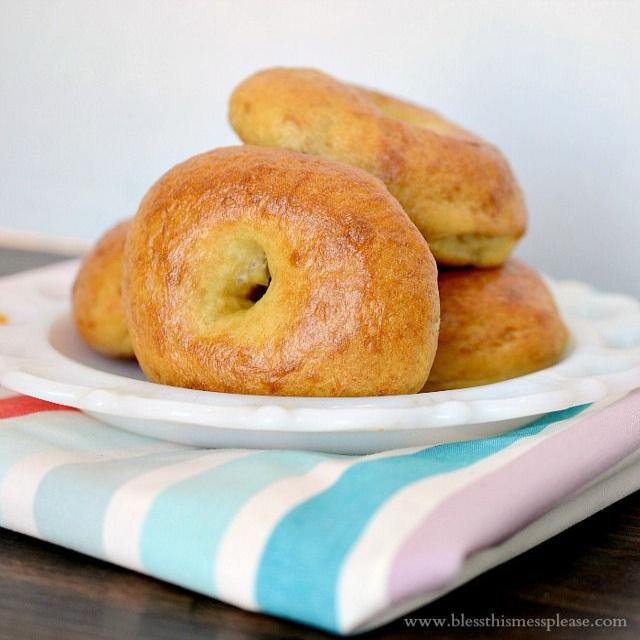Bagel: (124, 146, 440, 396), (229, 69, 527, 266)
